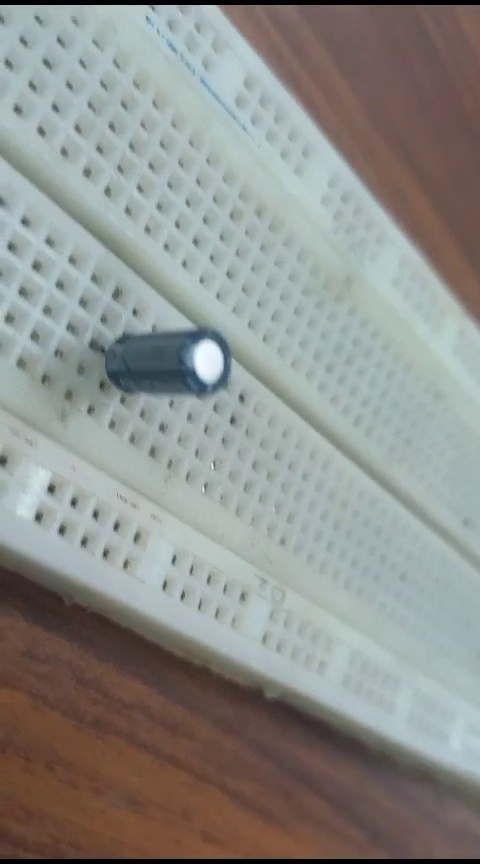capacitor: (76, 315, 239, 405)
